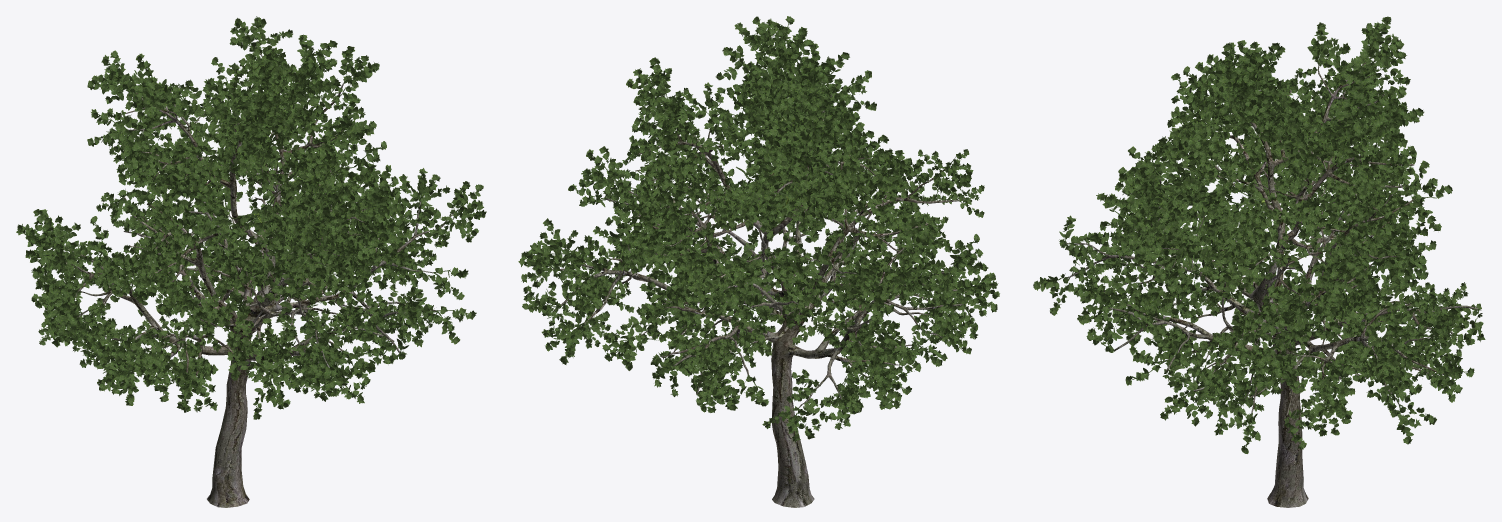
Rendered from Pyrus Spinosa Cmps.glb.
The picture shows the model from 3 angles, left to right: view 1: azimuth 30°, elevation 25°; view 2: azimuth 150°, elevation 25°; view 3: azimuth 270°, elevation 25°; orthographic projection. The views are drawn at different scales.
Parts seen in each view (by area): view 1: 044.001; view 2: 044.001; view 3: 044.001.
Boxes of the visible parts, left/top/right/bottom form: 044.001: left=16, top=16, right=486, bottom=507; 044.001: left=518, top=16, right=999, bottom=507; 044.001: left=1033, top=16, right=1485, bottom=507.
Size of the model in its own units: 1.55 by 1.54 by 1.35.
Materials: 2 (2 with a texture image).
